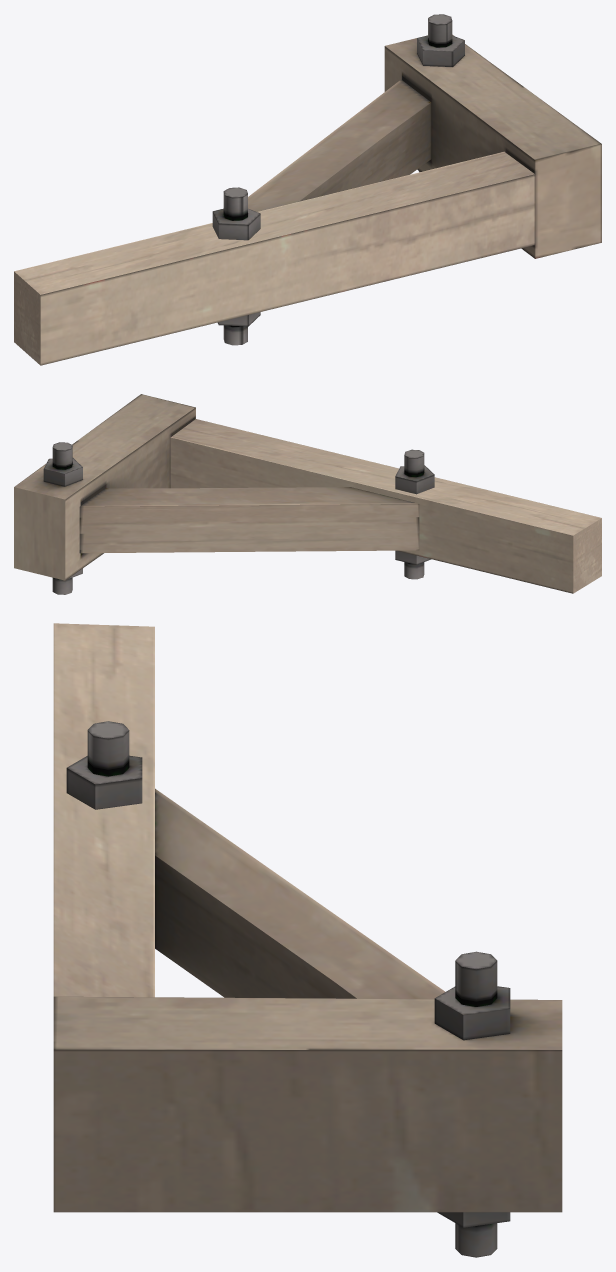
Rendered from props_mining_tunnel_truss01b.glb.
The picture shows the model from 3 angles, top to bottom: view 1: azimuth 30°, elevation 25°; view 2: azimuth 150°, elevation 25°; view 3: azimuth 270°, elevation 25°; orthographic projection. The views are drawn at different scales.
Parts seen in each view (by area): view 1: models/props_mining/tunnel_truss01b; view 2: models/props_mining/tunnel_truss01b; view 3: models/props_mining/tunnel_truss01b.
Boxes of the visible parts, box(x1,y1,x2,y2) form: models/props_mining/tunnel_truss01b: box(14, 14, 601, 365); models/props_mining/tunnel_truss01b: box(14, 394, 601, 594); models/props_mining/tunnel_truss01b: box(53, 623, 562, 1257).
Size of the model in its own units: 84.04 by 25.12 by 40.15.
Materials: 1 (1 with a texture image).
